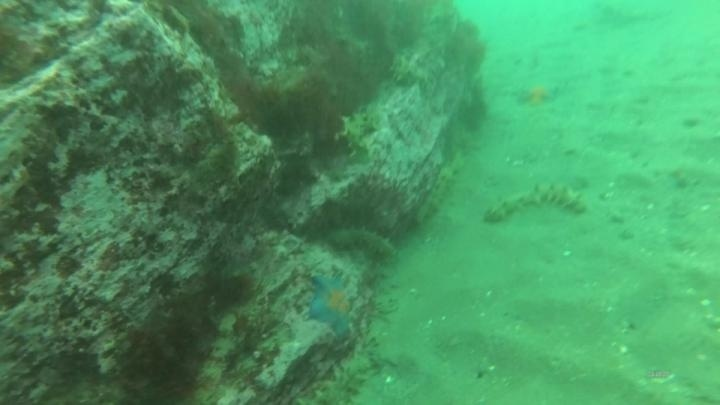holothurian: (479, 178, 591, 227), (310, 344, 379, 405), (415, 154, 464, 227), (325, 222, 399, 263), (334, 105, 382, 164), (386, 49, 421, 90)
starfish: (303, 271, 359, 341), (512, 75, 563, 110)
